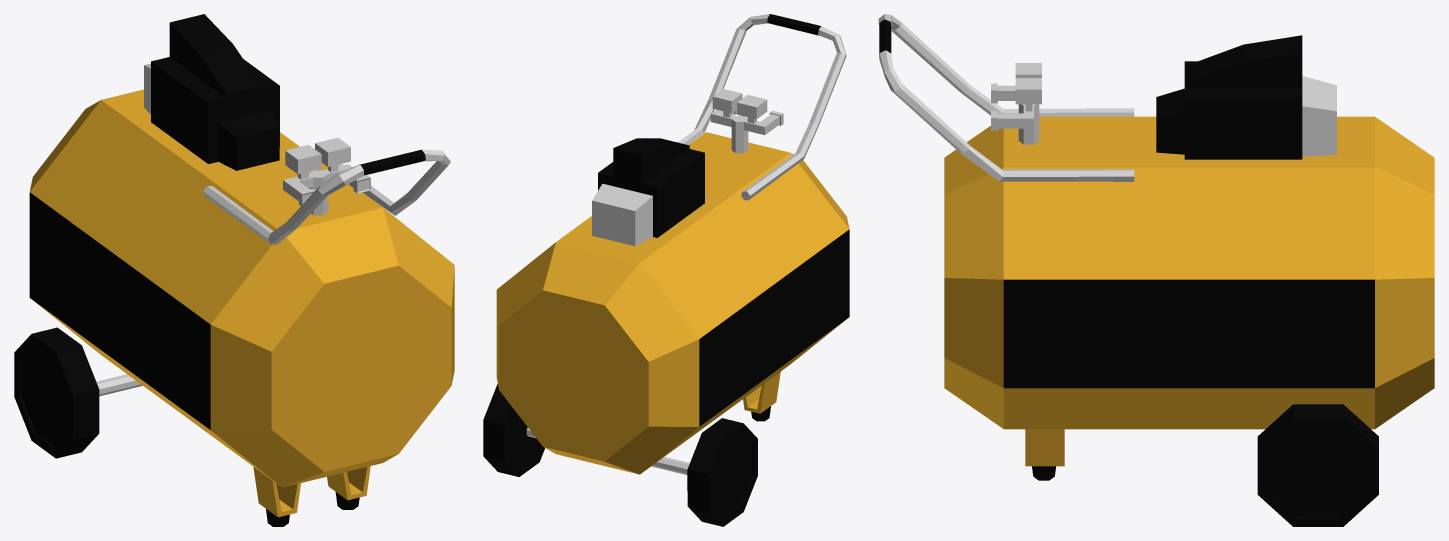
Rendered from Me_Compressor.fbx.
3 views of the same model, side by side, from view 1: azimuth 30°, elevation 25°; view 2: azimuth 150°, elevation 25°; view 3: azimuth 270°, elevation 25° (orthographic). The views are drawn at different scales.
Parts seen in each view (by area): view 1: Me_Compressor; view 2: Me_Compressor; view 3: Me_Compressor.
Part boxes in pixels (bbox=[...]): Me_Compressor: bbox=[14, 14, 454, 526]; Me_Compressor: bbox=[483, 14, 849, 526]; Me_Compressor: bbox=[878, 14, 1434, 526].
Bounding box in the file's own units: 507 × 876 × 738.
